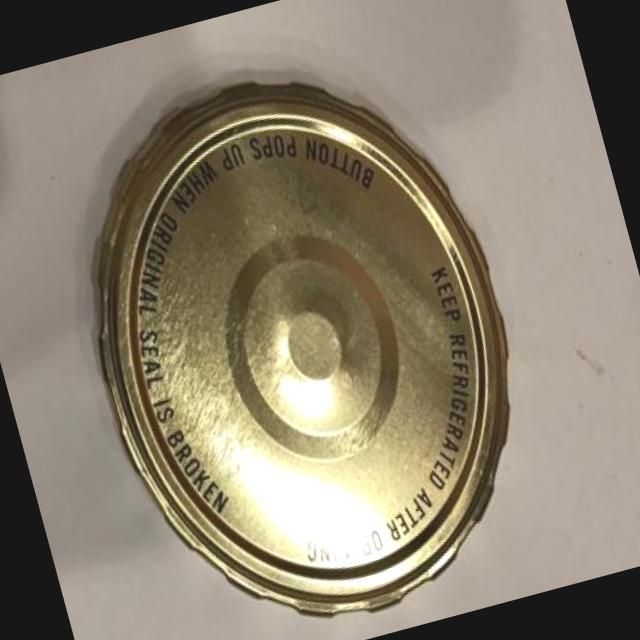kim_loai: (96, 86, 507, 615)
